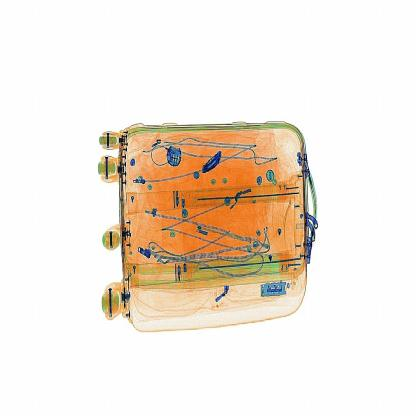knife: (198, 142, 230, 182)
